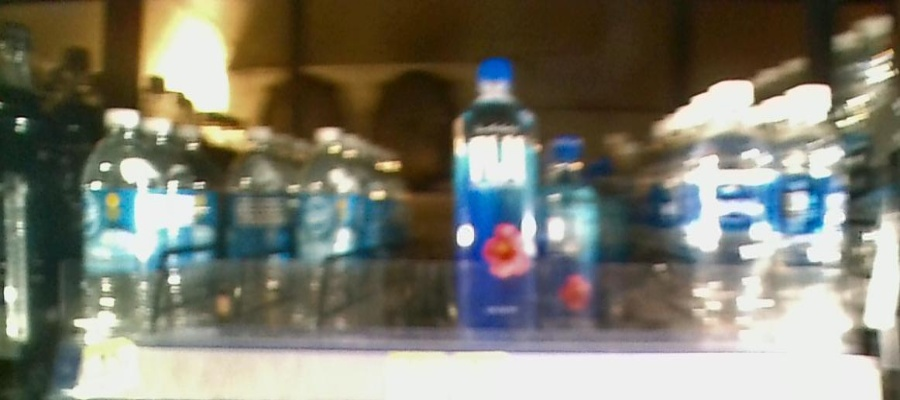bottle: (452, 53, 534, 345), (696, 78, 775, 358), (78, 101, 159, 343), (782, 83, 850, 352), (538, 119, 600, 341), (225, 123, 288, 334), (297, 128, 350, 339)
